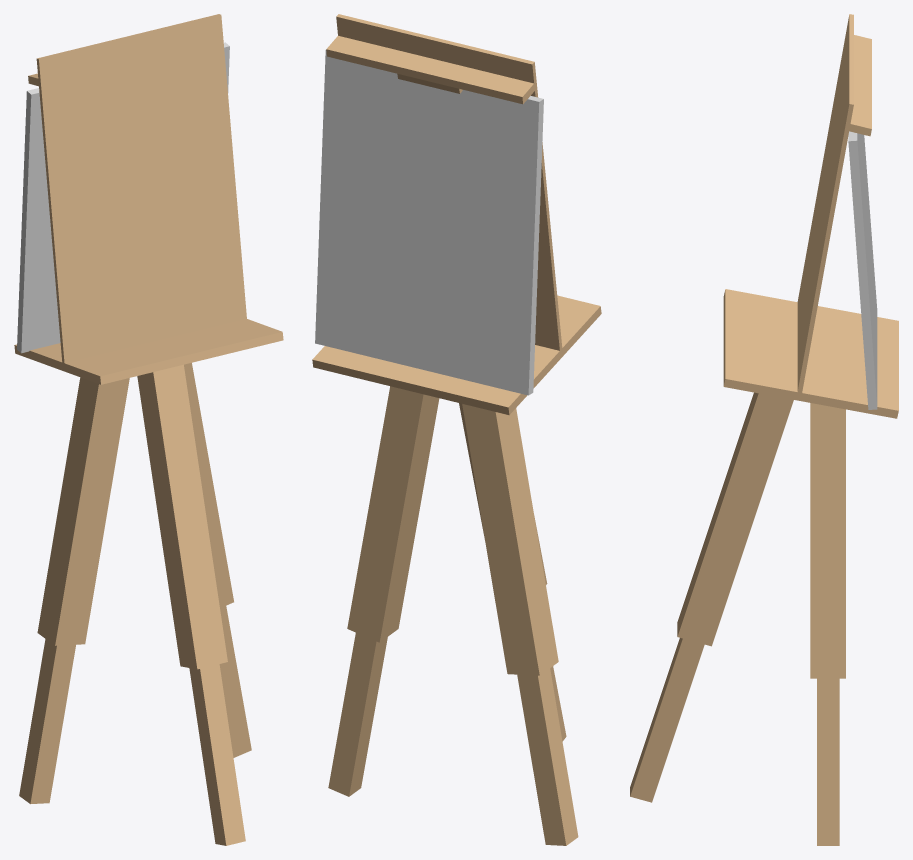
The picture shows the model from 3 angles, left to right: view 1: azimuth 30°, elevation 25°; view 2: azimuth 150°, elevation 25°; view 3: azimuth 270°, elevation 25°; orthographic projection. The views are drawn at different scales.
Visible parts, largest first — view 1: 立方体.004, 立方体.001, 立方体.003, 立方体, 立方体.002; view 2: 立方体, 立方体.003, 立方体.004, 立方体.002, 立方体.001; view 3: 立方体.004, 立方体.001, 立方体.002, 立方体.
Part boxes in pixels (x1=…): 立方体.004: x1=14, y1=14, x2=283, y2=384; 立方体.001: x1=137, y1=364, x2=245, y2=845; 立方体.003: x1=19, y1=377, x2=129, y2=804; 立方体: x1=17, y1=42, x2=229, y2=353; 立方体.002: x1=184, y1=363, x2=251, y2=757; 立方体: x1=315, y1=50, x2=543, y2=395; 立方体.003: x1=462, y1=404, x2=578, y2=845; 立方体.004: x1=312, y1=14, x2=601, y2=415; 立方体.002: x1=328, y1=386, x2=439, y2=796; 立方体.001: x1=459, y1=403, x2=566, y2=741; 立方体.004: x1=723, y1=14, x2=898, y2=418; 立方体.001: x1=630, y1=392, x2=793, y2=802; 立方体.002: x1=810, y1=403, x2=845, y2=845; 立方体: x1=848, y1=131, x2=877, y2=409.
Bounding box in the file's own units: 128 × 405 × 133.
